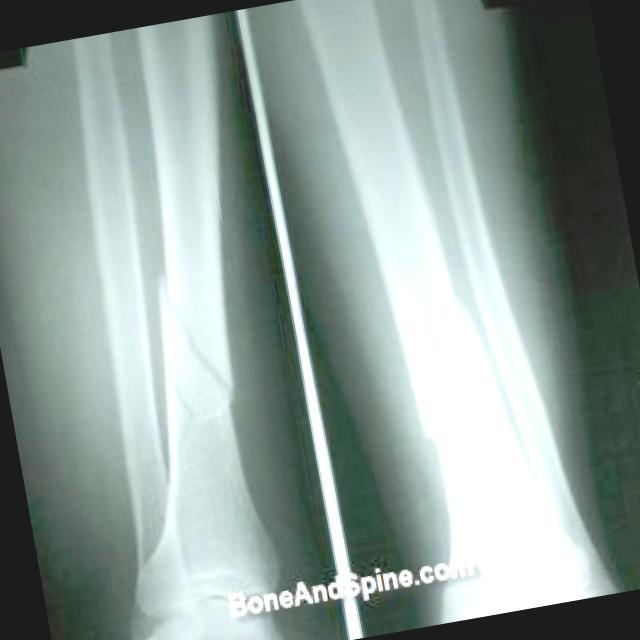Comminuted Fracture: (353, 258, 507, 441), (145, 266, 259, 428)
